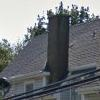Chimney: (44, 6, 78, 65)
